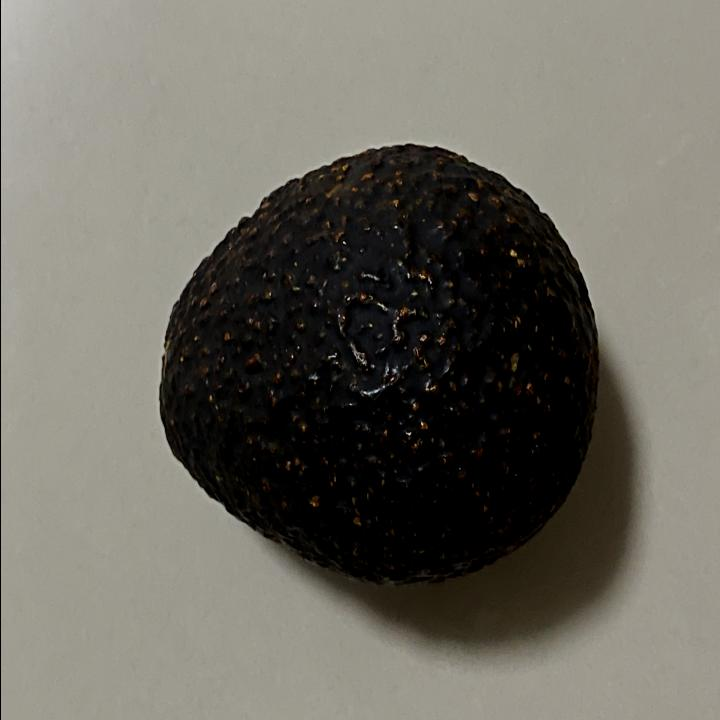Level2: (147, 132, 604, 598)
